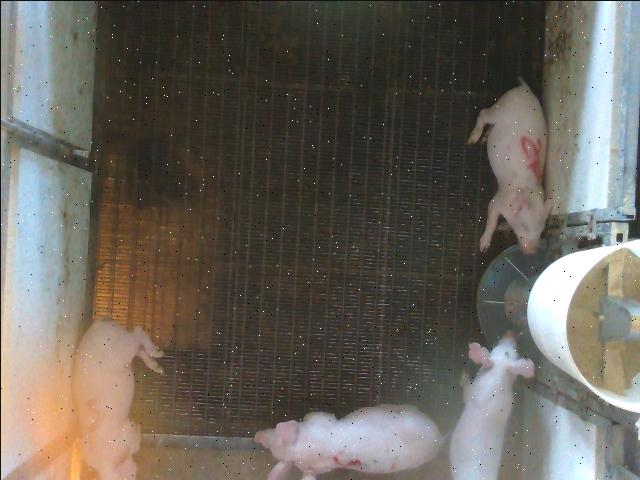pig-2: (74, 318, 162, 478)
pig-3: (254, 404, 442, 479)
pig-5: (466, 76, 551, 253)
